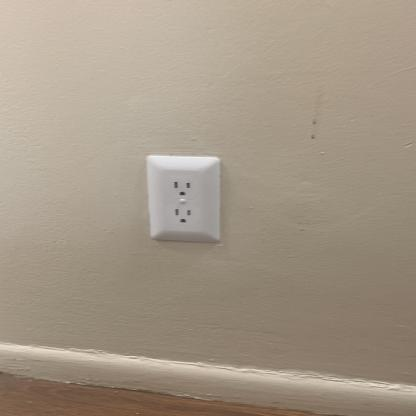OUTLET: (146, 154, 222, 244)
